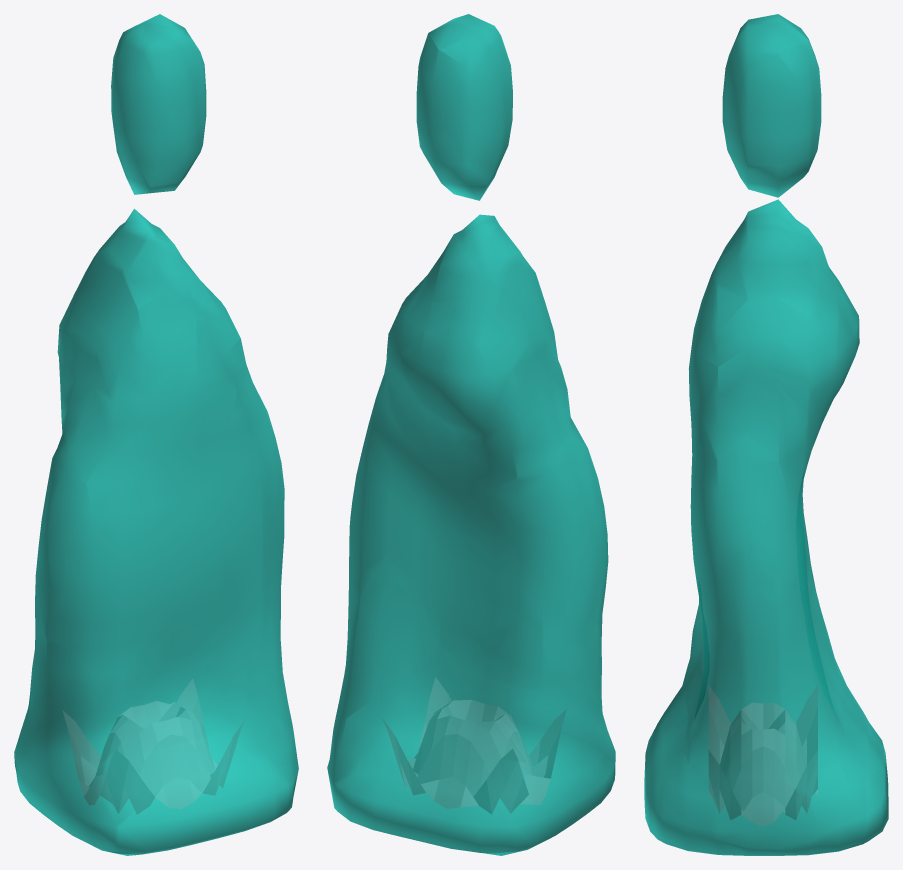
The picture shows the model from 3 angles, left to right: view 1: azimuth 30°, elevation 25°; view 2: azimuth 150°, elevation 25°; view 3: azimuth 270°, elevation 25°; orthographic projection.
Parts seen in each view (by area): view 1: Liquid_Domain, グリッド; view 2: Liquid_Domain, グリッド; view 3: Liquid_Domain, グリッド.
Boxes of the visible parts, x1,y1,x2,y2 form: Liquid_Domain: (14, 14, 298, 855); グリッド: (63, 679, 245, 814); Liquid_Domain: (327, 14, 615, 855); グリッド: (382, 677, 566, 813); Liquid_Domain: (644, 14, 888, 855); グリッド: (709, 686, 817, 826).
Size of the model in its own units: 0.7696 by 2.45 by 0.6698.
